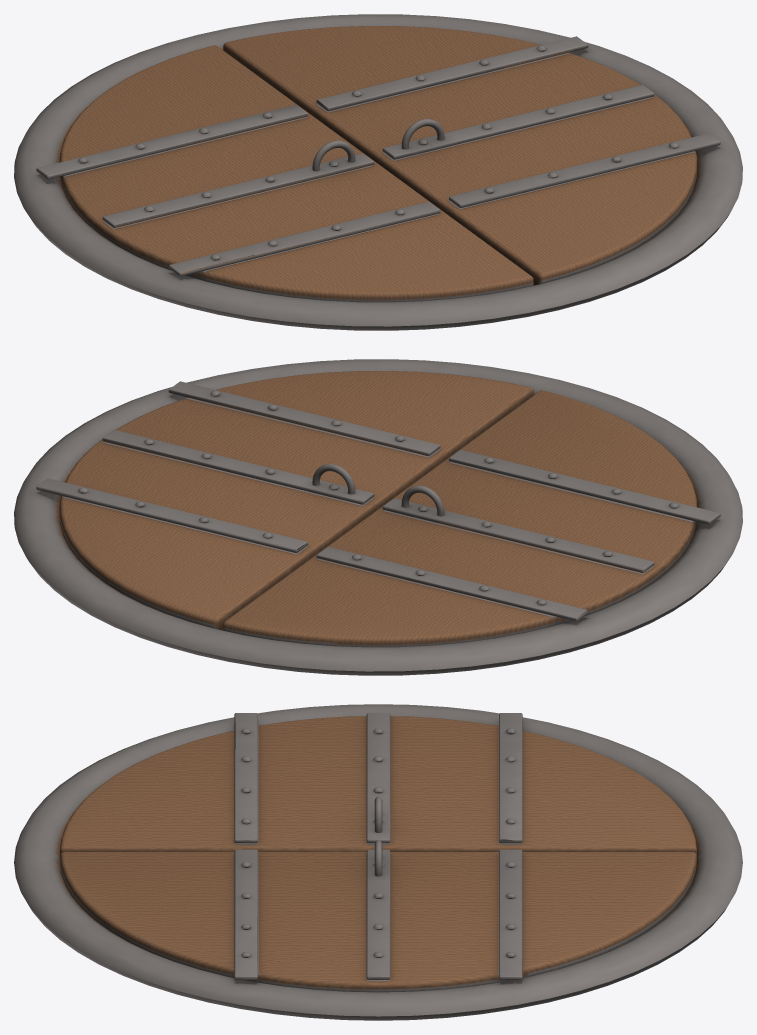
The model's file is SK_MonsterHatch.fbx.
The picture shows the model from 3 angles, top to bottom: view 1: azimuth 30°, elevation 25°; view 2: azimuth 150°, elevation 25°; view 3: azimuth 270°, elevation 25°; orthographic projection.
Parts seen in each view (by area): view 1: Leaf_R, Leaf_L, SK_MonsterHatch; view 2: Leaf_R, Leaf_L, SK_MonsterHatch; view 3: Leaf_R, Leaf_L, SK_MonsterHatch.
Boxes of the visible parts, <box> form: Leaf_R: <box>223,26,720,285</box>; Leaf_L: <box>36,45,533,302</box>; SK_MonsterHatch: <box>14,14,742,330</box>; Leaf_R: <box>36,371,533,630</box>; Leaf_L: <box>223,390,720,647</box>; SK_MonsterHatch: <box>14,359,742,675</box>; Leaf_R: <box>60,840,696,992</box>; Leaf_L: <box>60,713,696,854</box>; SK_MonsterHatch: <box>14,704,742,1020</box>.
Size of the model in its own units: 496 by 39.5 by 496.
